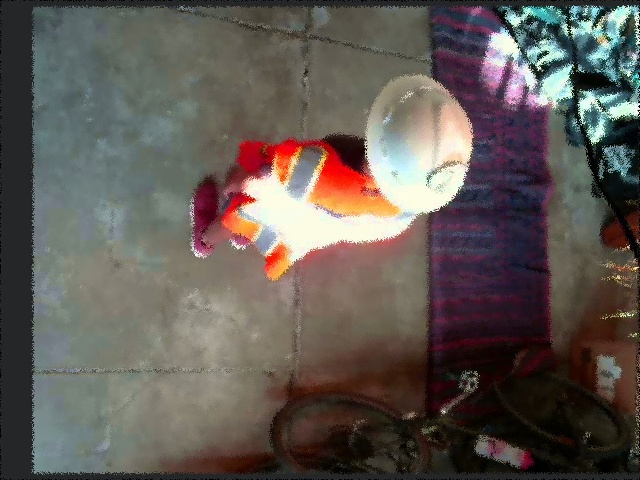two: (426, 163, 466, 191)
